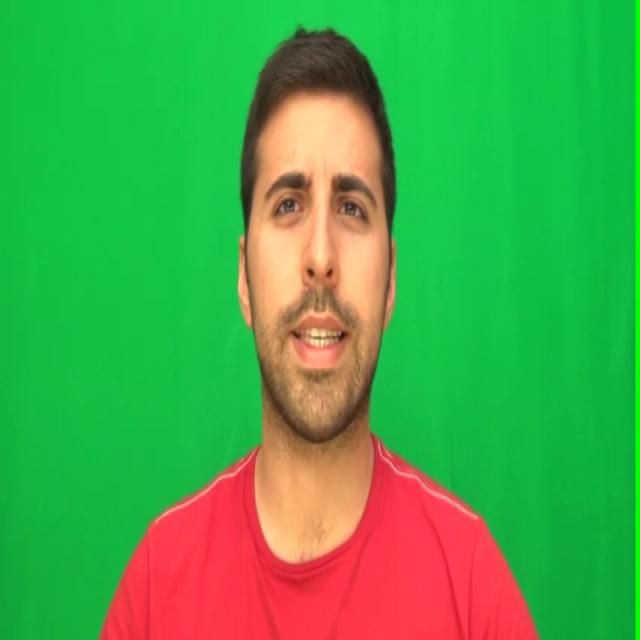Engaged: (248, 72, 388, 419)
